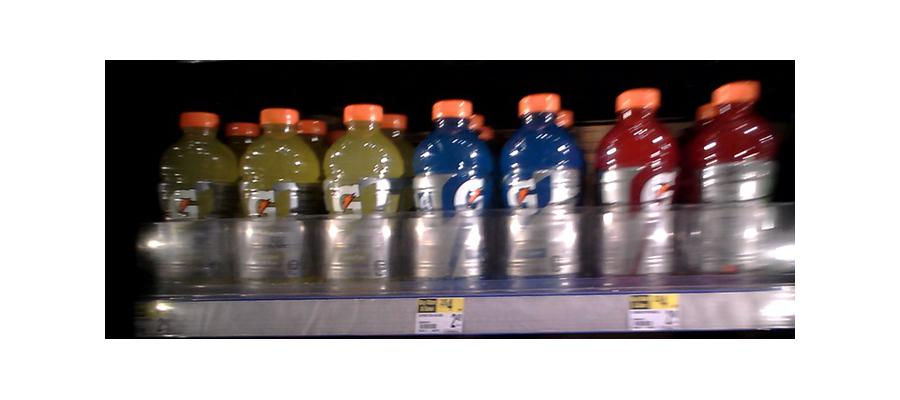bottle: (686, 81, 776, 294), (592, 88, 680, 289), (405, 99, 492, 294), (234, 104, 319, 293), (502, 93, 582, 291), (155, 108, 236, 300), (321, 103, 401, 291)
